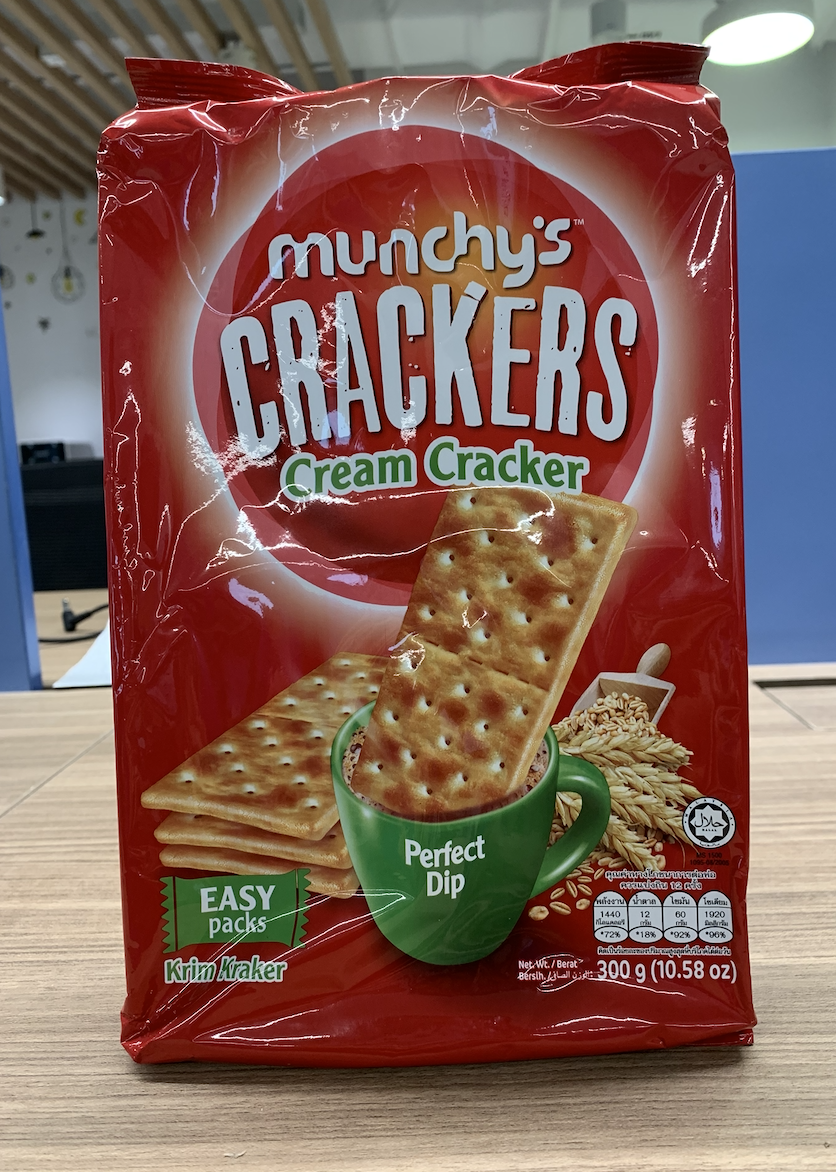crackers_450g: (137, 136, 746, 992)
